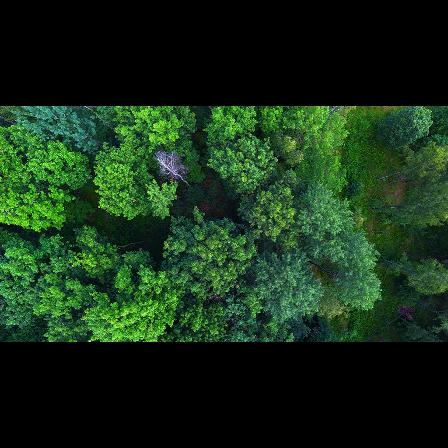Dead: (156, 148, 192, 189)
